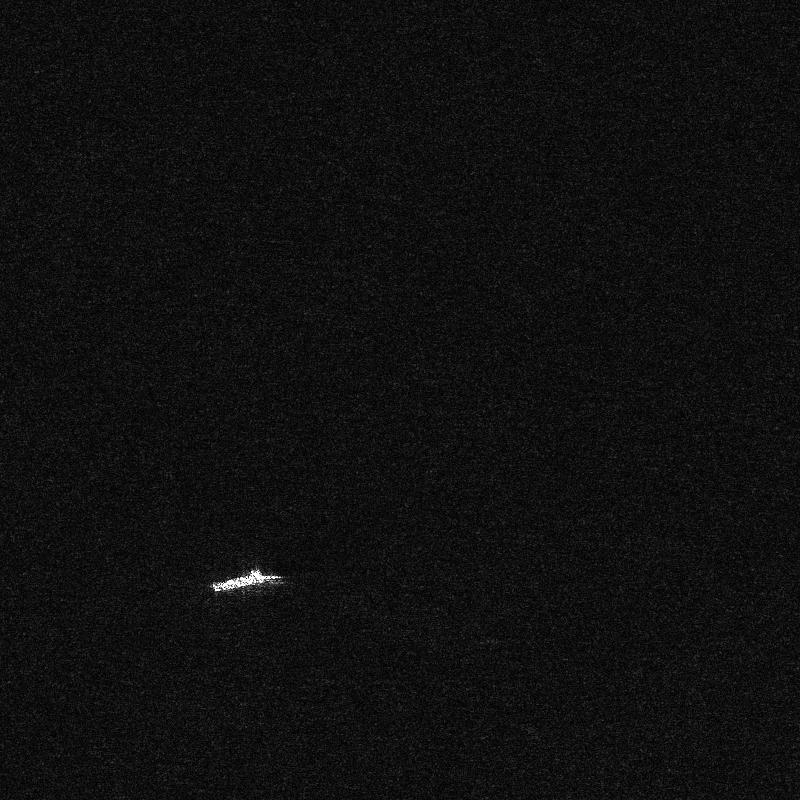ship: (212, 570, 281, 592)
